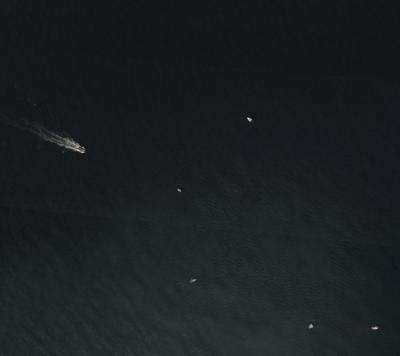Ships: (59, 112, 95, 169), (167, 175, 186, 199), (186, 266, 202, 293), (245, 105, 255, 135)
